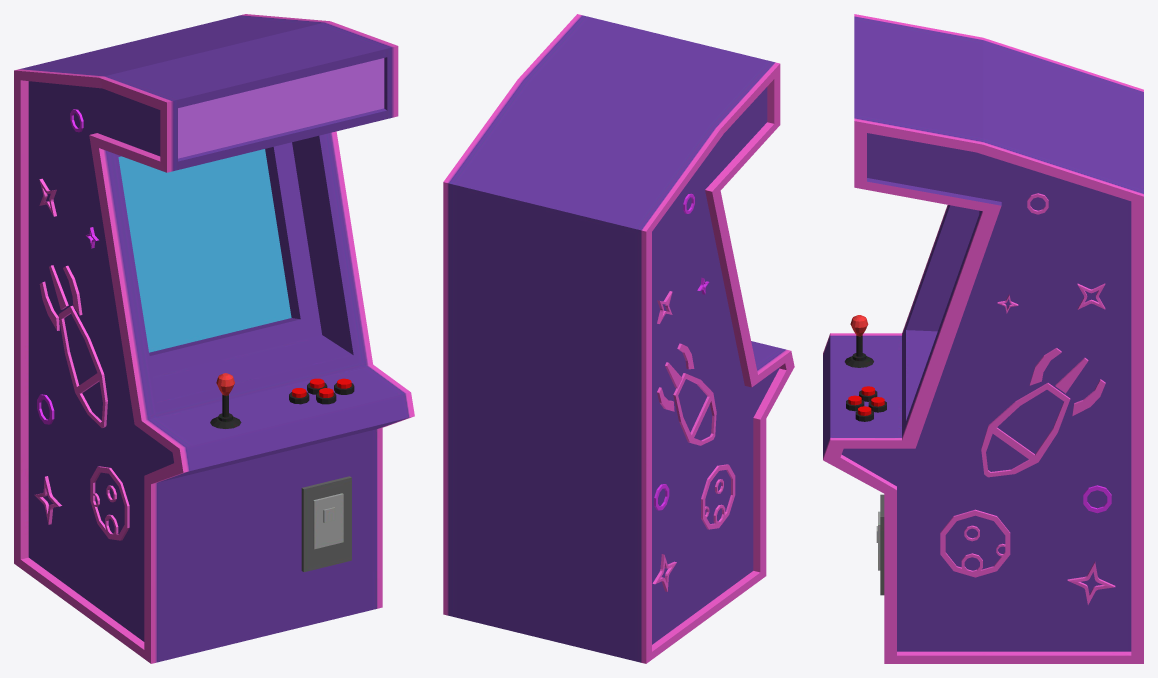
Rendered from game.gltf.
The picture shows the model from 3 angles, left to right: view 1: azimuth 30°, elevation 25°; view 2: azimuth 150°, elevation 25°; view 3: azimuth 270°, elevation 25°; orthographic projection. The views are drawn at different scales.
Visible parts, largest first — view 1: Arcade_machine; view 2: Arcade_machine; view 3: Arcade_machine.
Boxes of the visible parts, left/top/right/bottom form: Arcade_machine: left=14, top=14, right=414, bottom=663; Arcade_machine: left=443, top=14, right=794, bottom=663; Arcade_machine: left=823, top=14, right=1143, bottom=663.
Size of the model in its own units: 0.7323 by 1.73 by 0.928.
Materials: 1 (1 with a texture image).
